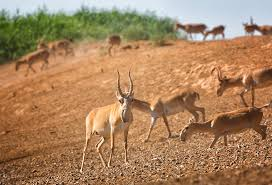saiga: (78, 68, 139, 167), (179, 103, 272, 149), (211, 63, 272, 107)
